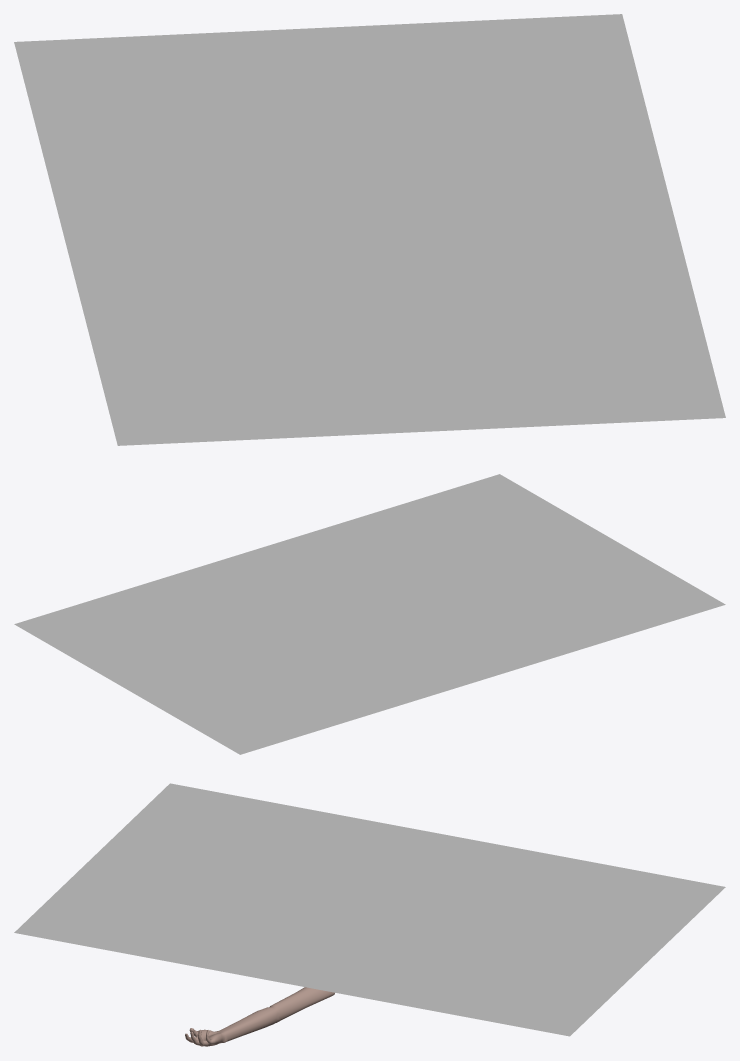
Rendered from deadwife.fbx.
3 views of the same model, one above another, from view 1: azimuth 30°, elevation 25°; view 2: azimuth 150°, elevation 25°; view 3: azimuth 270°, elevation 25° (orthographic). The views are drawn at different scales.
Visible parts, largest first — view 1: cloth; view 2: cloth; view 3: cloth, hand.
Part boxes in pixels (x1,y1,x2,y2): cloth: [14, 14, 725, 445]; cloth: [14, 474, 725, 754]; cloth: [14, 783, 725, 1036]; hand: [185, 987, 334, 1046].
Size of the model in its own units: 4.21 by 0.7179 by 5.
